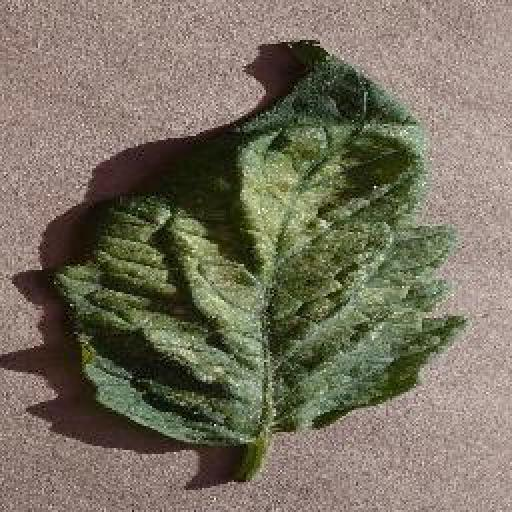disease_tomato: (51, 40, 465, 442)
